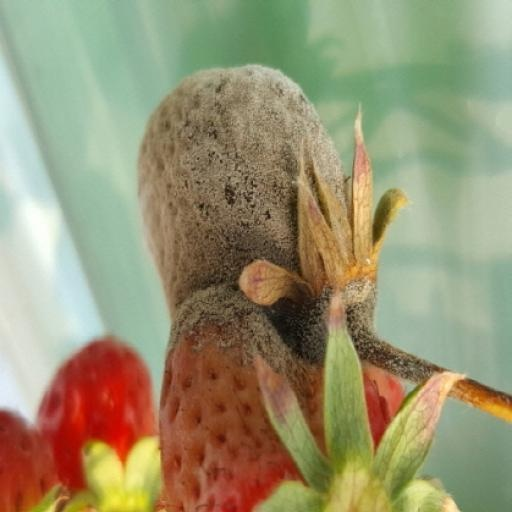Gray Mold: (69, 63, 374, 385), (185, 279, 356, 511)
